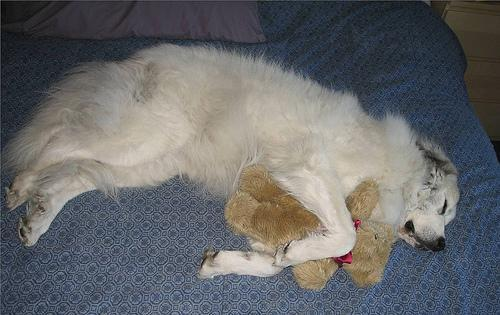Great_Pyrenees: (1, 41, 460, 281)
